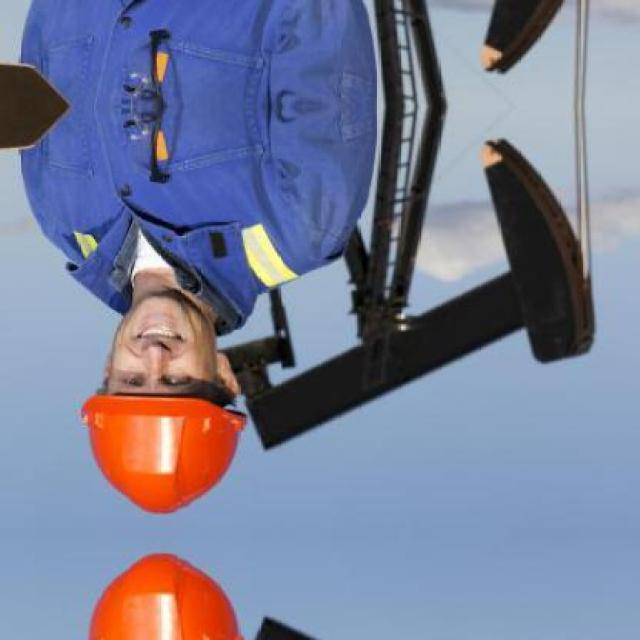safetyhelmet: (70, 330, 255, 516)
